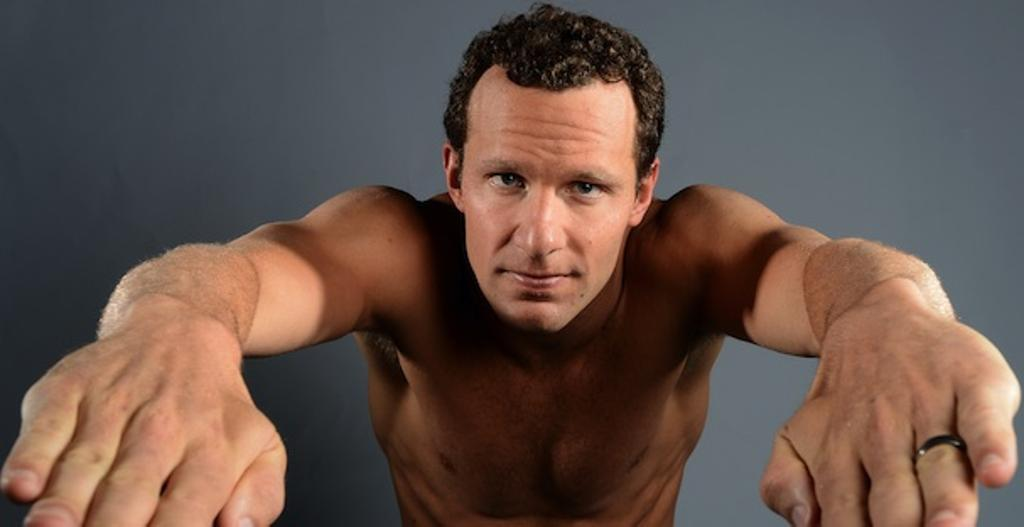face: (462, 102, 630, 330)
